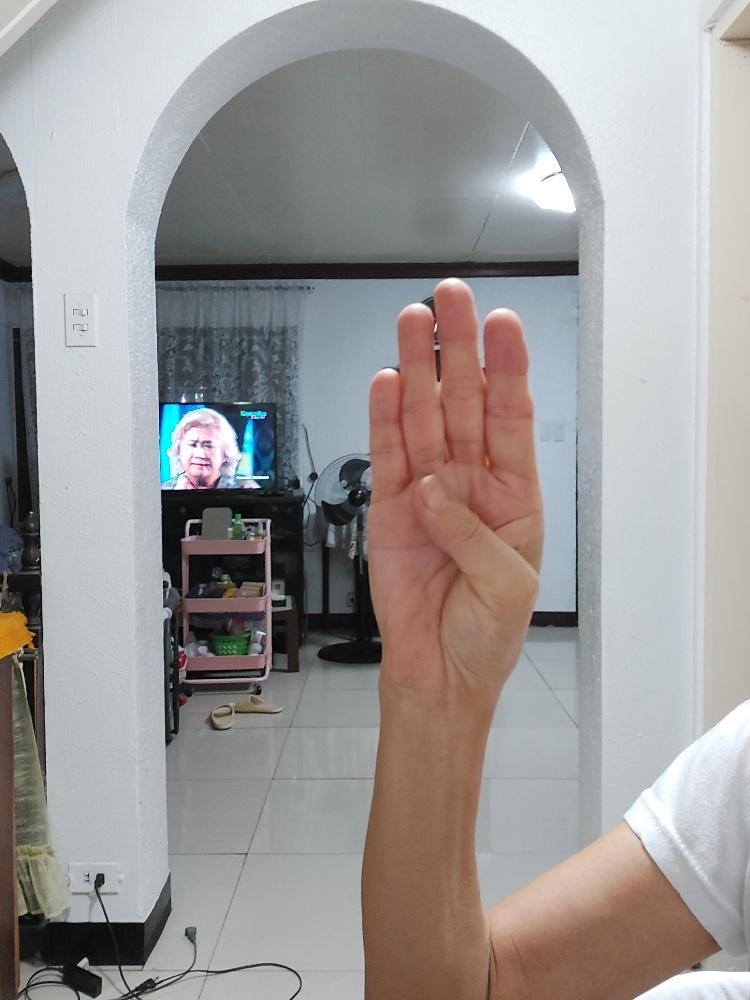b: (363, 275, 544, 700)
